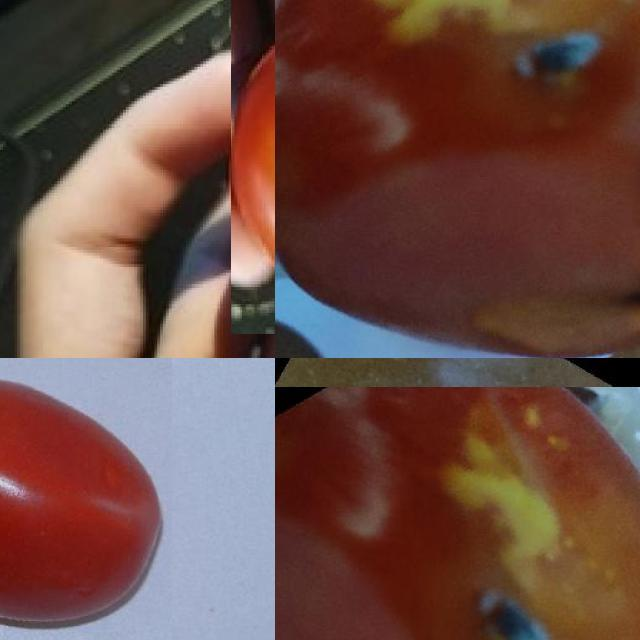Fresh Tomato: (0, 358, 172, 640)
Rotten Tomato: (275, 0, 640, 358), (275, 387, 640, 640)
